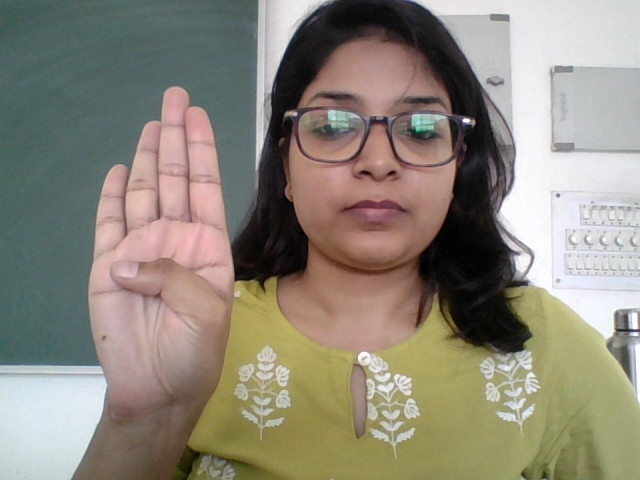B: (69, 85, 253, 425)
